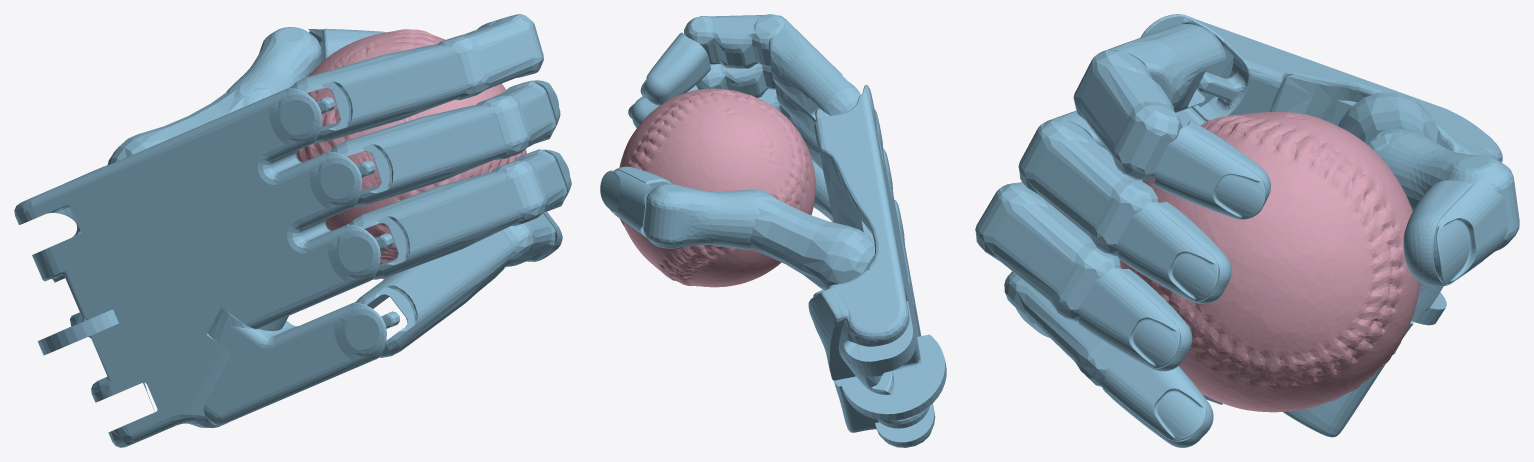
The picture shows the model from 3 angles, left to right: view 1: azimuth 30°, elevation 25°; view 2: azimuth 150°, elevation 25°; view 3: azimuth 270°, elevation 25°; orthographic projection. The views are drawn at different scales.
Parts seen in each view (by area): view 1: world; view 2: world; view 3: world.
Part boxes in pixels (bbox=[...]): world: bbox=[14, 14, 571, 447]; world: bbox=[600, 14, 946, 447]; world: bbox=[975, 14, 1519, 447].
Size of the model in its own units: 0.1535 by 0.1336 by 0.1307.
